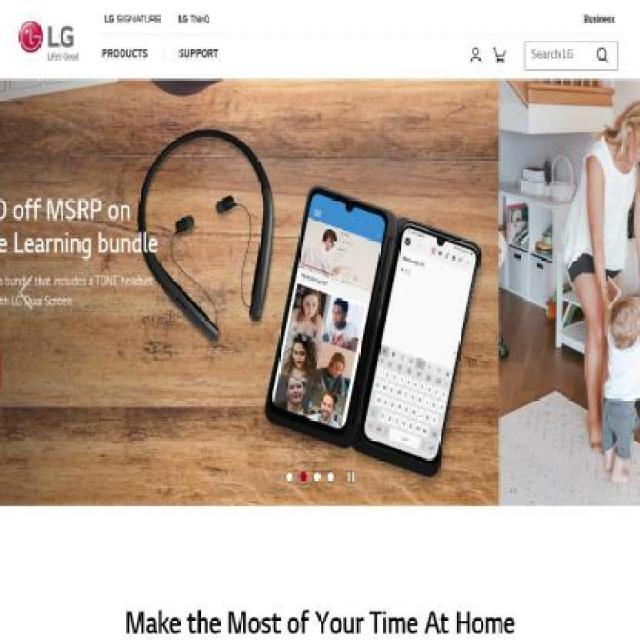button: (0, 0, 100, 78), (50, 352, 142, 390), (99, 0, 166, 31), (101, 35, 148, 77), (179, 35, 218, 77), (172, 0, 216, 31), (577, 0, 621, 31), (18, 276, 32, 310), (608, 276, 622, 310), (466, 44, 485, 67), (490, 44, 508, 67), (347, 471, 355, 483), (285, 472, 293, 482), (299, 472, 307, 482), (313, 472, 321, 482), (326, 472, 334, 482)
field: (525, 41, 593, 70), (593, 44, 612, 67)
